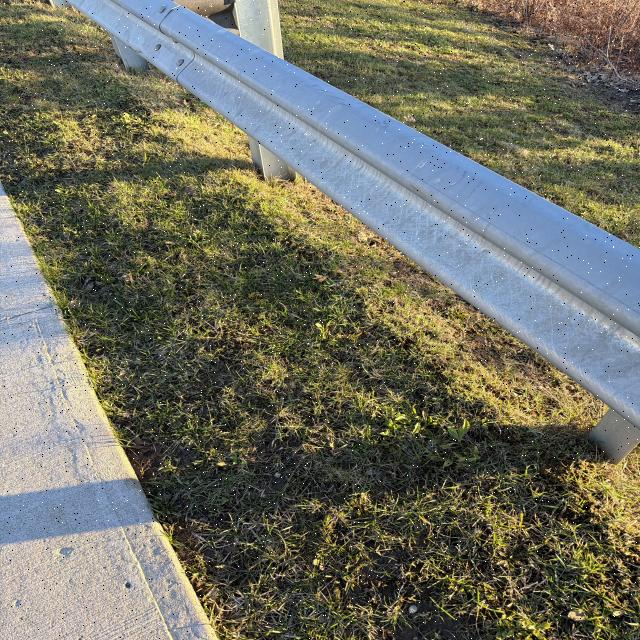Guard rail: (67, 17, 620, 372)
